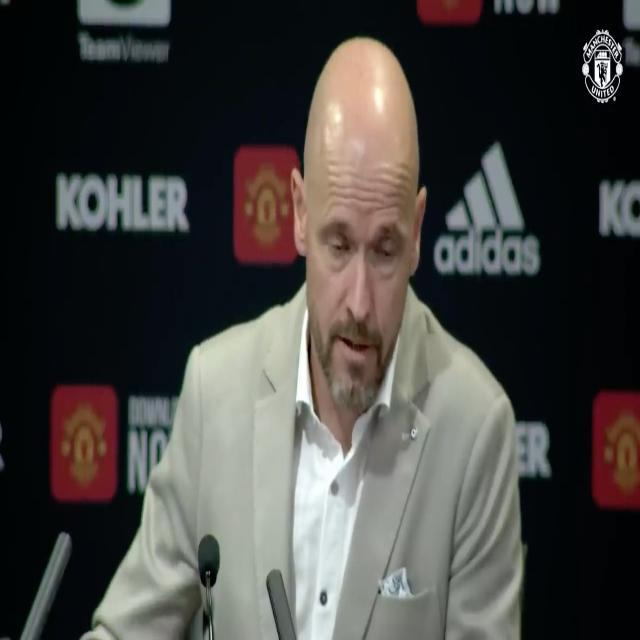Adidas: (433, 136, 542, 278)
Kohler: (57, 170, 188, 233)
TeamViewer: (78, 0, 170, 62)
